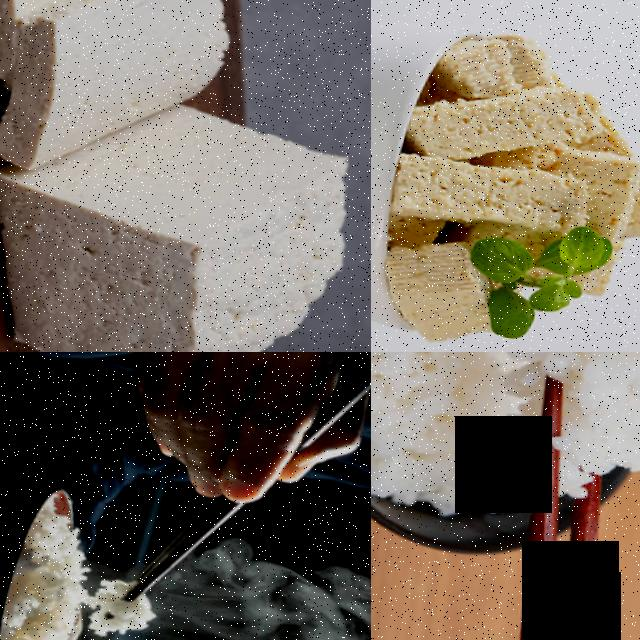tofu: (0, 83, 371, 352), (0, 0, 248, 196), (417, 59, 616, 175), (395, 144, 592, 235), (388, 231, 492, 342)
white rice: (371, 352, 640, 543), (0, 493, 112, 640)
